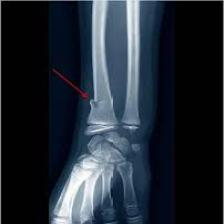greenstick-fracture: (50, 1, 165, 224)
